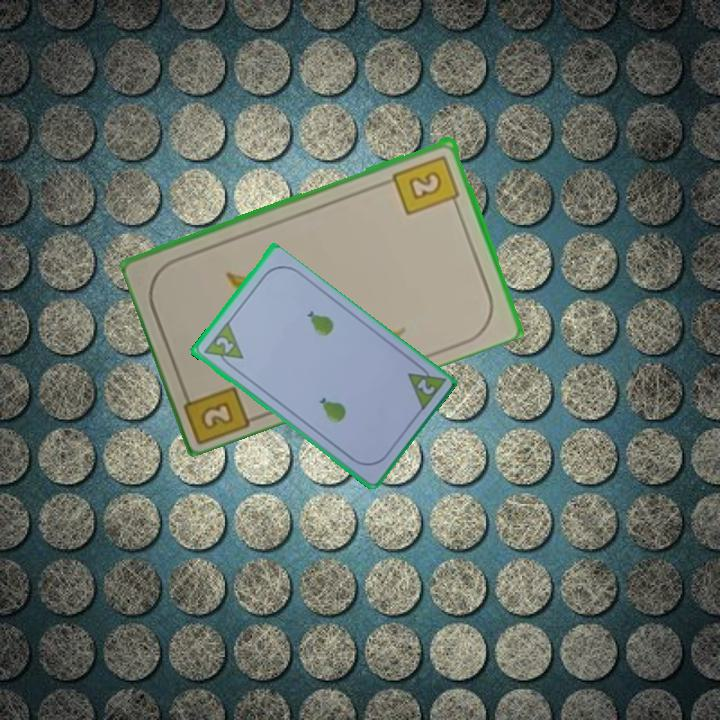2b: (389, 151, 462, 218), (178, 381, 255, 444)
2p: (211, 333, 236, 356), (413, 375, 437, 398)
